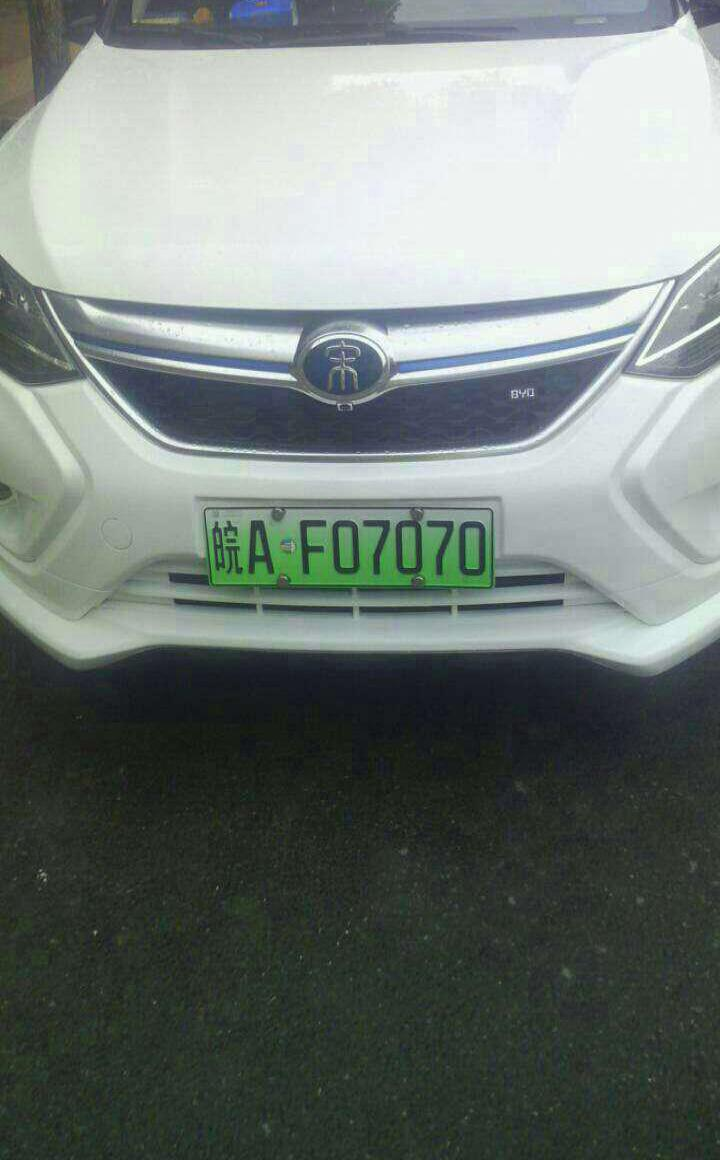car: (193, 505, 508, 594)
